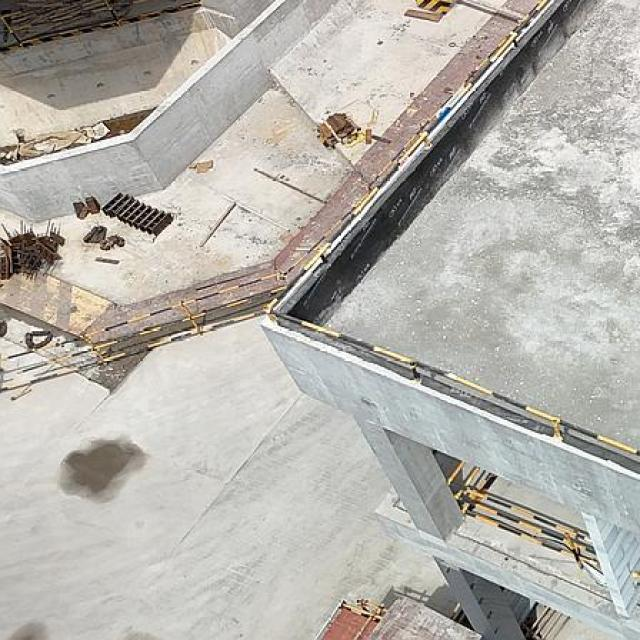edge_guardrail: (263, 0, 640, 454), (447, 460, 604, 576), (0, 0, 119, 46), (521, 607, 563, 640), (450, 602, 466, 624)
